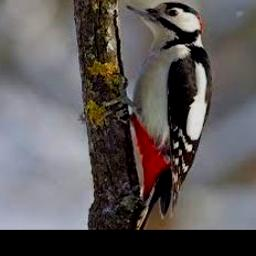Woodpecker: (109, 2, 213, 230)
